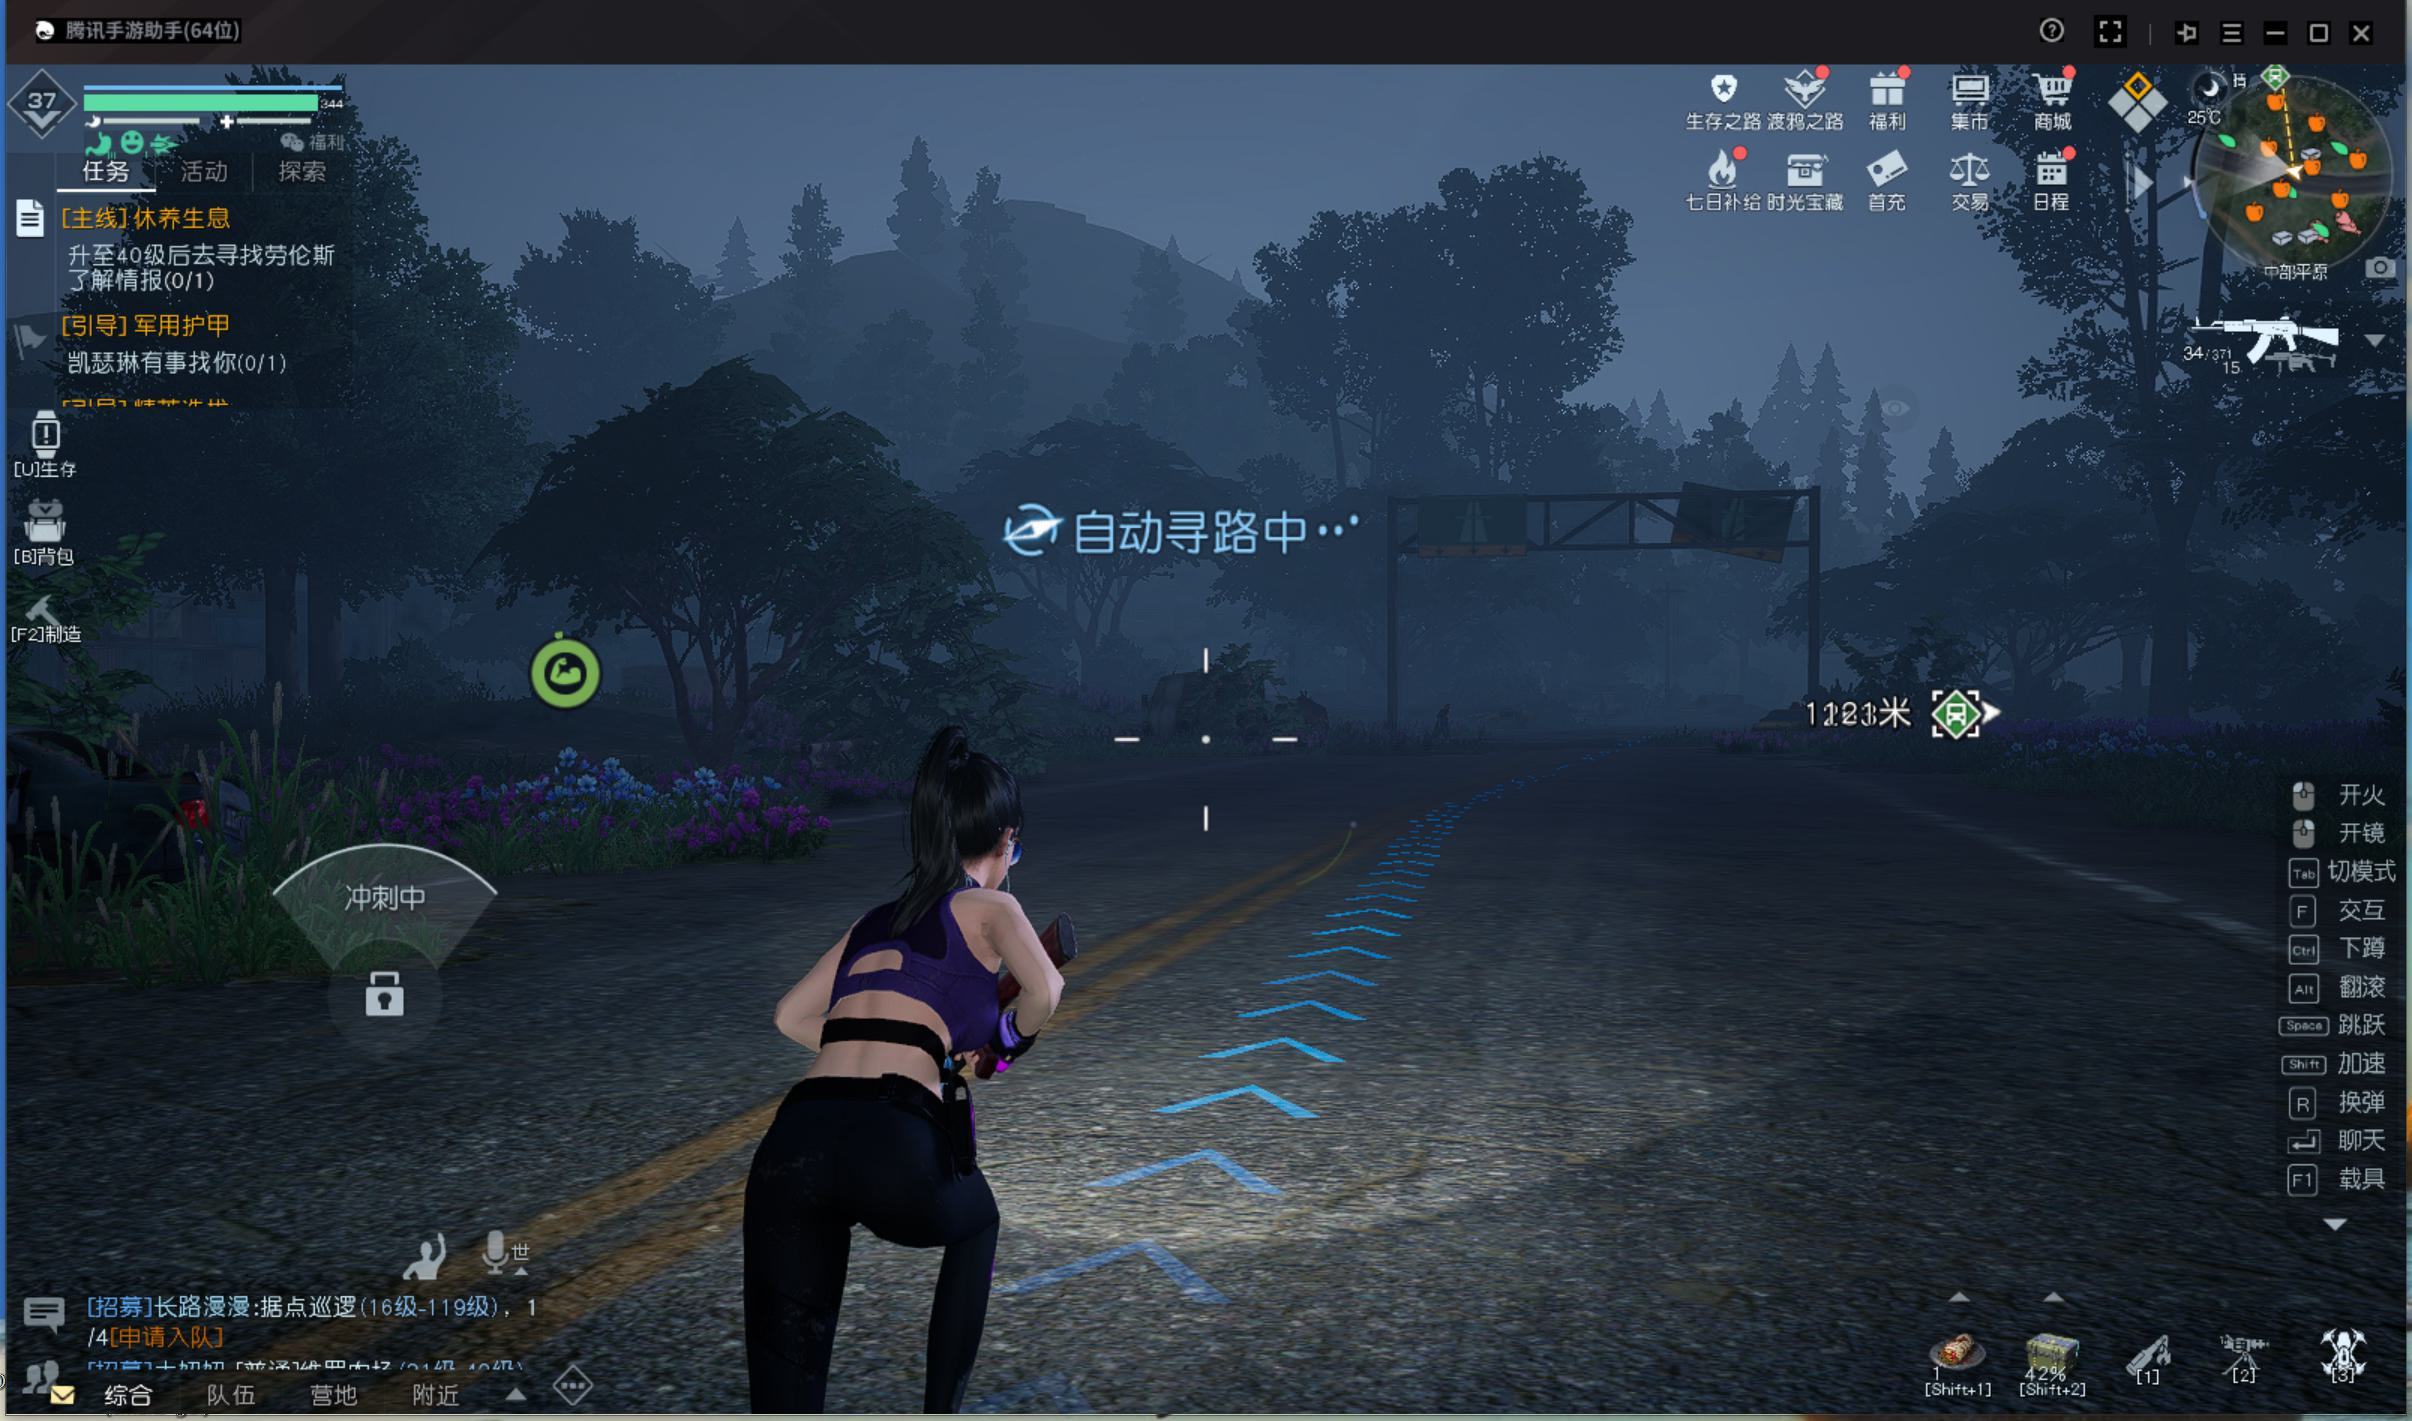tree: (310, 585, 352, 756), (262, 579, 298, 760)
